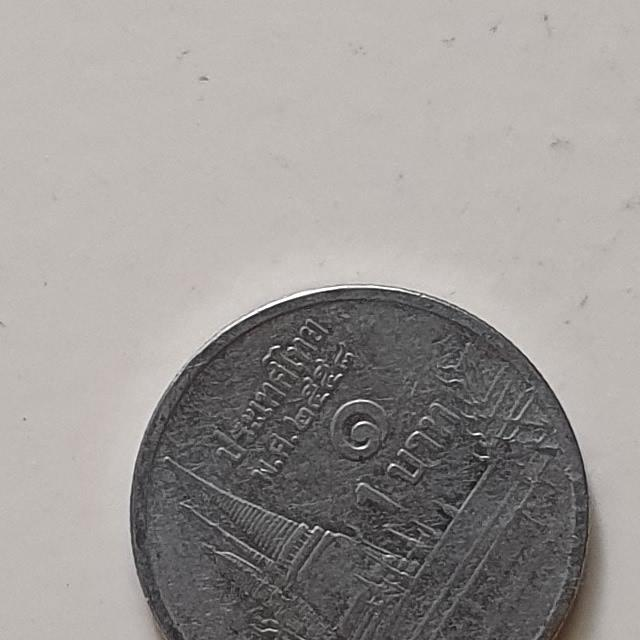1 Bath: (130, 274, 597, 640)
